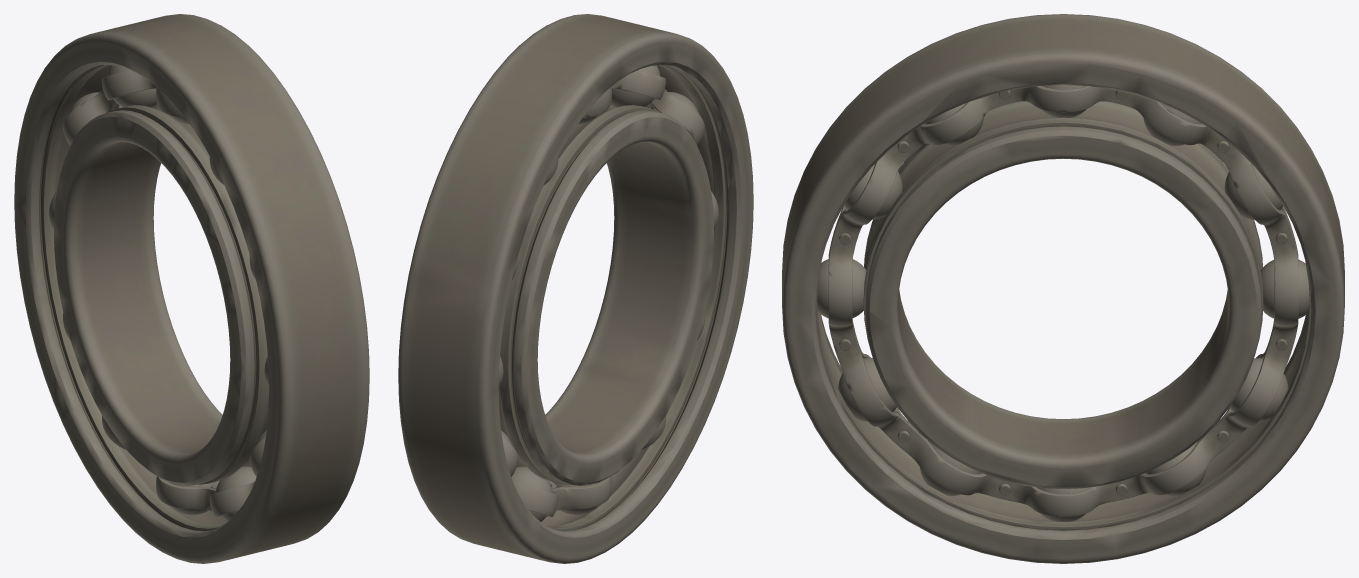
The model's file is ball_bearing.glb.
3 views of the same model, side by side, from view 1: azimuth 30°, elevation 25°; view 2: azimuth 150°, elevation 25°; view 3: azimuth 270°, elevation 25° (orthographic). The views are drawn at different scales.
Visible parts, largest first — view 1: ball_bearing_ball_001; view 2: ball_bearing_ball_001; view 3: ball_bearing_ball_001.
Part boxes in pixels (x1,y1,x2,y2): ball_bearing_ball_001: (14, 14, 369, 563); ball_bearing_ball_001: (398, 14, 753, 563); ball_bearing_ball_001: (782, 14, 1344, 563).
Bounding box in the file's own units: 1.38 × 7.3 × 7.3.
Materials: 1 (1 with a texture image).
